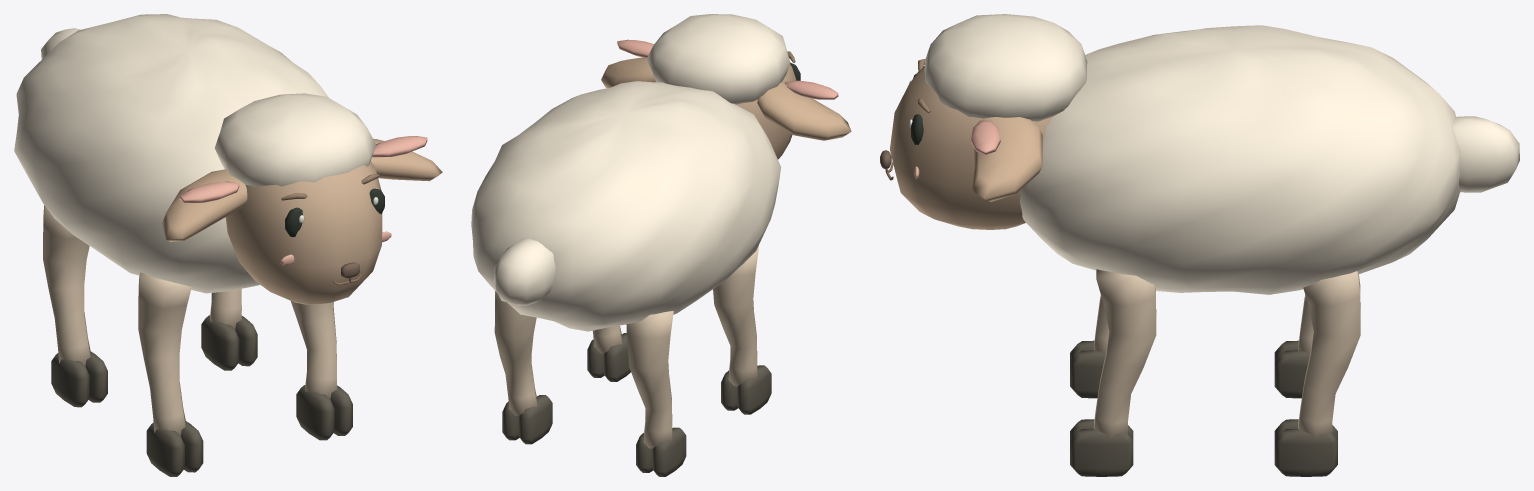
File: sheep-lod.gltf
3 views of the same model, side by side, from view 1: azimuth 30°, elevation 25°; view 2: azimuth 150°, elevation 25°; view 3: azimuth 270°, elevation 25° (orthographic). The views are drawn at different scales.
Visible parts, largest first — view 1: continuous-sculpted-fleece, face-and-jaw, sculpted-forelock, shaped-leg-2, shaped-leg-0, shaped-leg-3, soft-drooping-ear--1, split-hoof-3-toe--1, split-hoof-1-toe--1, split-hoof-0-toe--1, split-hoof-2-toe--1, soft-drooping-ear-1 (+7 smaller); view 2: continuous-sculpted-fleece, sculpted-forelock, shaped-leg-0, shaped-leg-2, shaped-leg-1, wool-tail, soft-drooping-ear--1, split-hoof-1-toe--1, split-hoof-2-toe--1, split-hoof-0-toe--1, soft-drooping-ear-1, face-and-jaw (+8 smaller); view 3: continuous-sculpted-fleece, sculpted-forelock, face-and-jaw, shaped-leg-3, shaped-leg-1, soft-drooping-ear-1, wool-tail, split-hoof-1-toe-1, split-hoof-3-toe-1, split-hoof-0-toe-1, split-hoof-2-toe-1, ear-lining-1.
Part boxes in pixels (x1,y1,x2,y2): continuous-sculpted-fleece: [14, 14, 328, 293]; face-and-jaw: [225, 161, 382, 304]; sculpted-forelock: [214, 93, 375, 186]; shaped-leg-2: [138, 272, 191, 435]; shaped-leg-0: [43, 205, 90, 365]; shaped-leg-3: [291, 301, 336, 398]; soft-drooping-ear--1: [162, 169, 247, 241]; split-hoof-3-toe--1: [296, 385, 334, 440]; split-hoof-1-toe--1: [201, 315, 239, 370]; split-hoof-0-toe--1: [51, 353, 89, 407]; split-hoof-2-toe--1: [146, 422, 184, 476]; soft-drooping-ear-1: [371, 138, 442, 181]; continuous-sculpted-fleece: [471, 81, 781, 331]; sculpted-forelock: [646, 14, 790, 104]; shaped-leg-0: [626, 311, 673, 448]; shaped-leg-2: [713, 246, 758, 386]; shaped-leg-1: [494, 291, 537, 416]; wool-tail: [494, 238, 555, 305]; soft-drooping-ear--1: [757, 81, 851, 140]; split-hoof-1-toe--1: [518, 395, 552, 444]; split-hoof-2-toe--1: [737, 365, 771, 414]; split-hoof-0-toe--1: [652, 427, 686, 476]; soft-drooping-ear-1: [601, 57, 655, 88]; face-and-jaw: [736, 64, 796, 159]; continuous-sculpted-fleece: [1019, 25, 1460, 294]; sculpted-forelock: [924, 14, 1087, 121]; face-and-jaw: [890, 66, 1051, 229]; shaped-leg-3: [1093, 269, 1156, 440]; shaped-leg-1: [1298, 271, 1360, 440]; soft-drooping-ear-1: [972, 117, 1042, 201]; wool-tail: [1453, 116, 1519, 192]; split-hoof-1-toe-1: [1274, 429, 1337, 476]; split-hoof-3-toe-1: [1070, 428, 1133, 476]; split-hoof-0-toe-1: [1274, 350, 1309, 398]; split-hoof-2-toe-1: [1070, 350, 1105, 398]; ear-lining-1: [971, 120, 1000, 154].
Bounding box in the file's own units: 0.9888 × 1.29 × 1.85.
